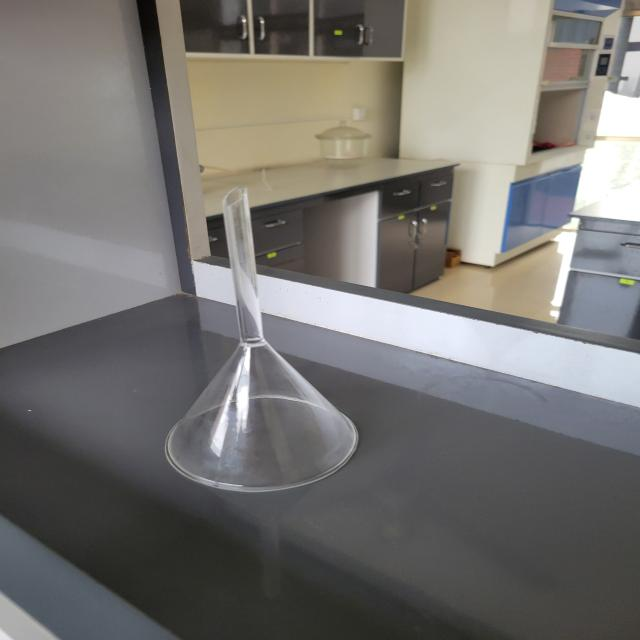Funnel: (142, 159, 396, 515)
